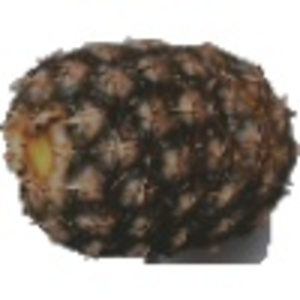abacaxi: (3, 36, 295, 254)
